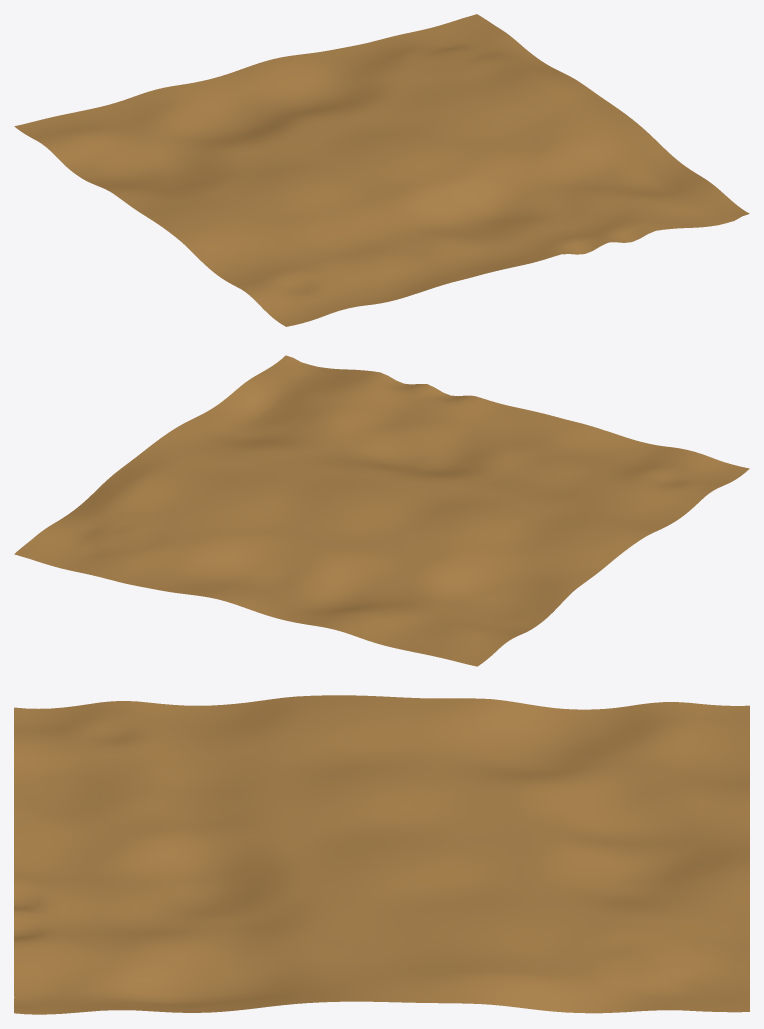
Rendered from terre_carre9.fbx.
The picture shows the model from 3 angles, top to bottom: view 1: azimuth 30°, elevation 25°; view 2: azimuth 150°, elevation 25°; view 3: azimuth 270°, elevation 25°; orthographic projection. The views are drawn at different scales.
Visible parts, largest first — view 1: terre_carre9; view 2: terre_carre9; view 3: terre_carre9.
Part boxes in pixels (<box>): terre_carre9: <box>14,14,749,326</box>; terre_carre9: <box>14,355,749,666</box>; terre_carre9: <box>14,695,749,1014</box>.
Bounding box in the file's own units: 709 × 27.95 × 720.
